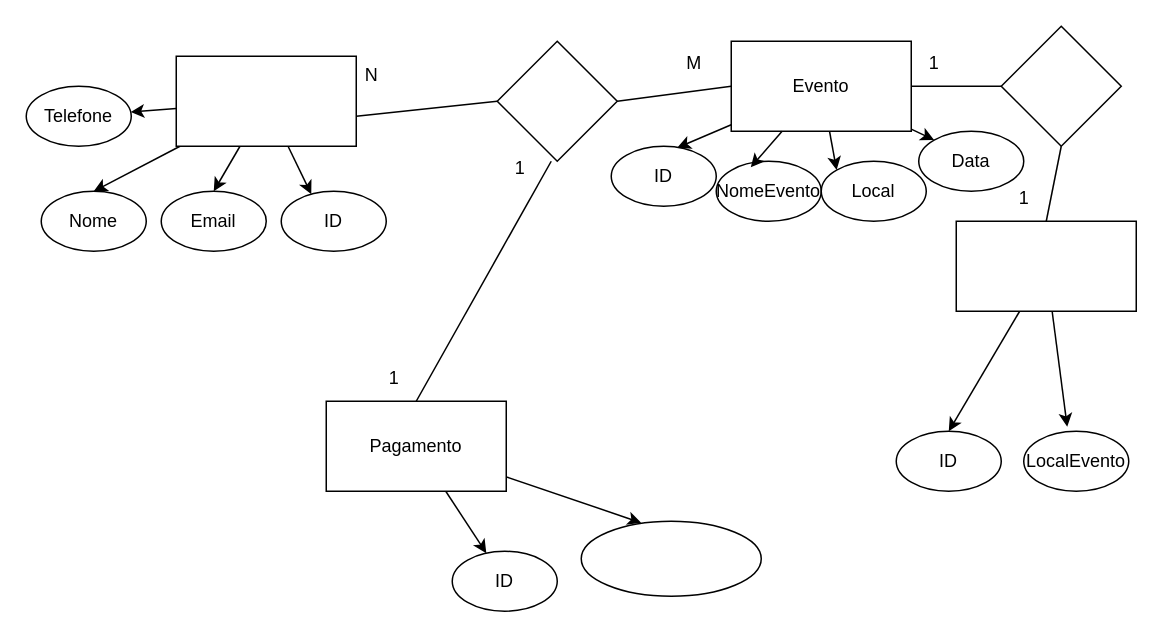
Some shapes in this 1163 by 638 pixel diagram are drawn without their labels. The centre of each missing label's shape, as x and y in pixels:
Contem: pixel 1060 85
Descrição: pixel 1045 265
FormaPagamento: pixel 670 558
Inscrição: pixel 556 100
Participante: pixel 265 100
